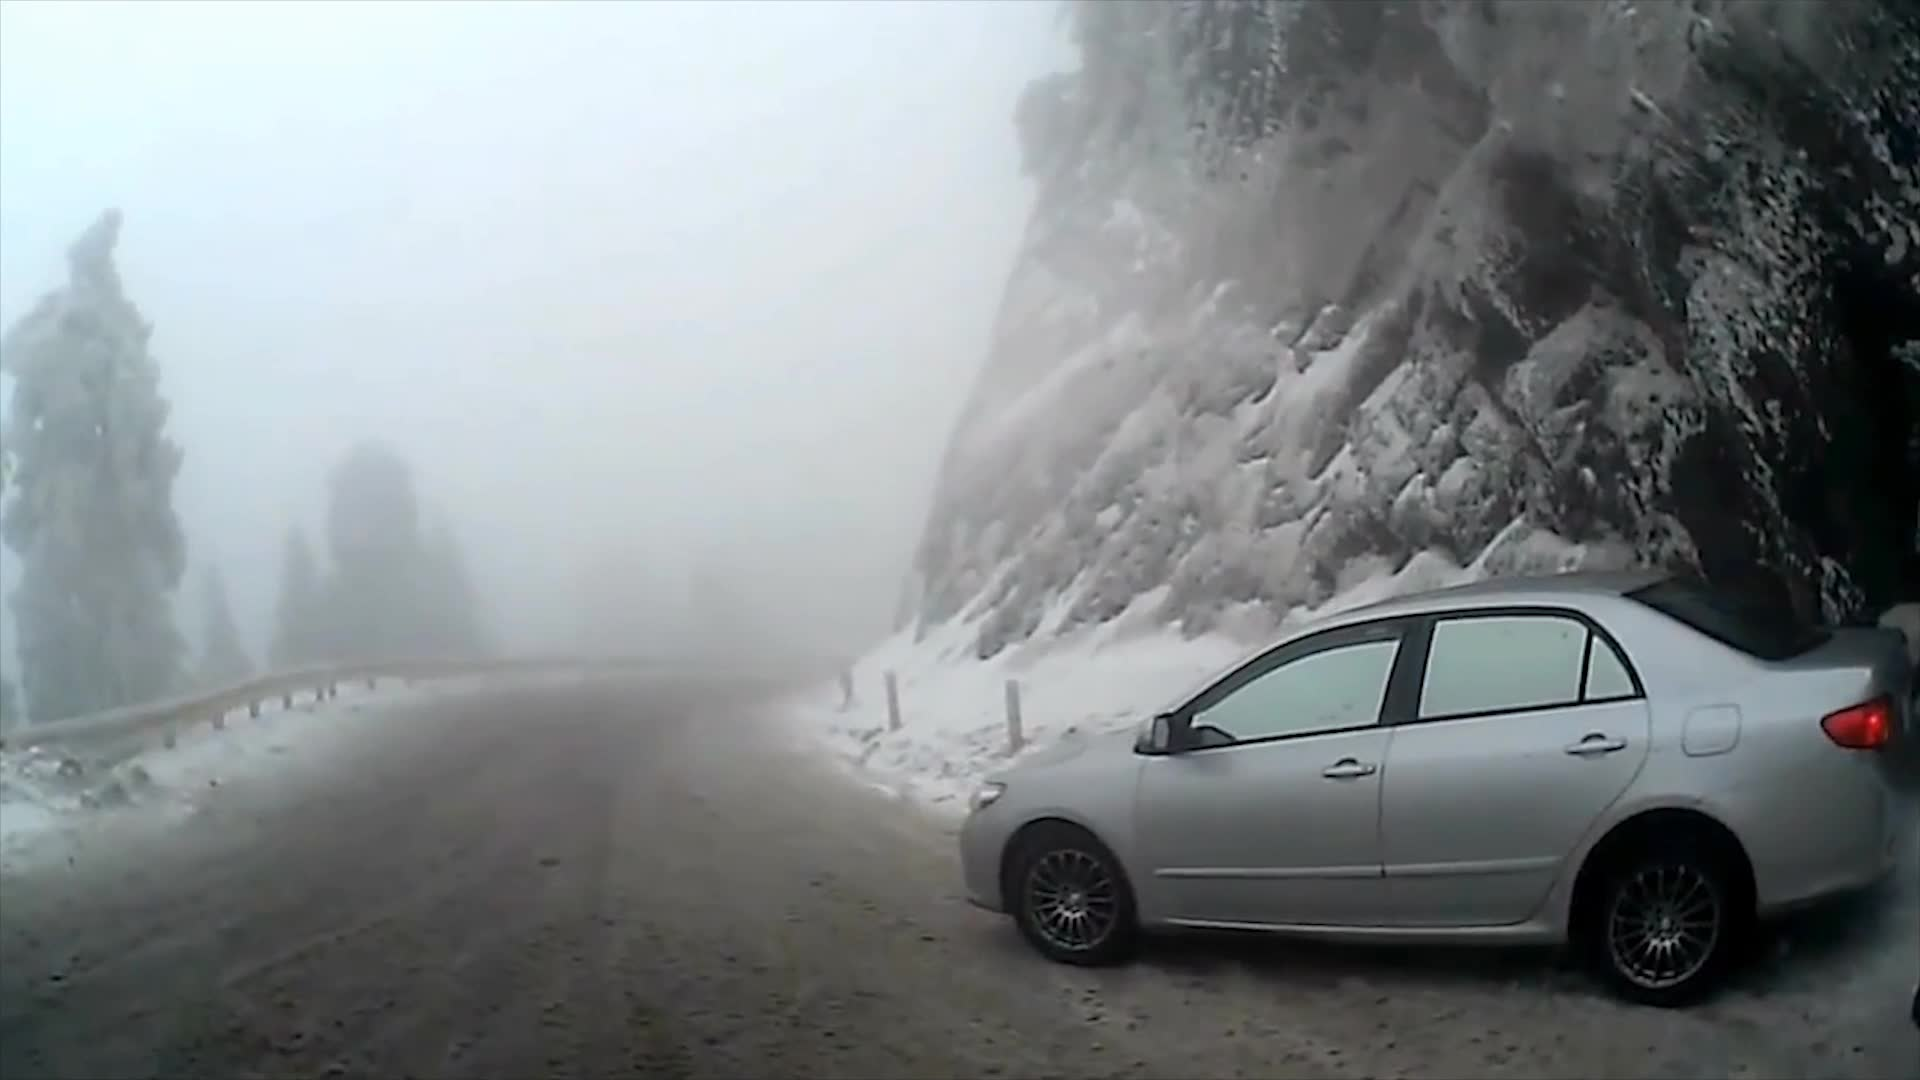vehicle: (963, 571, 1920, 1011)
